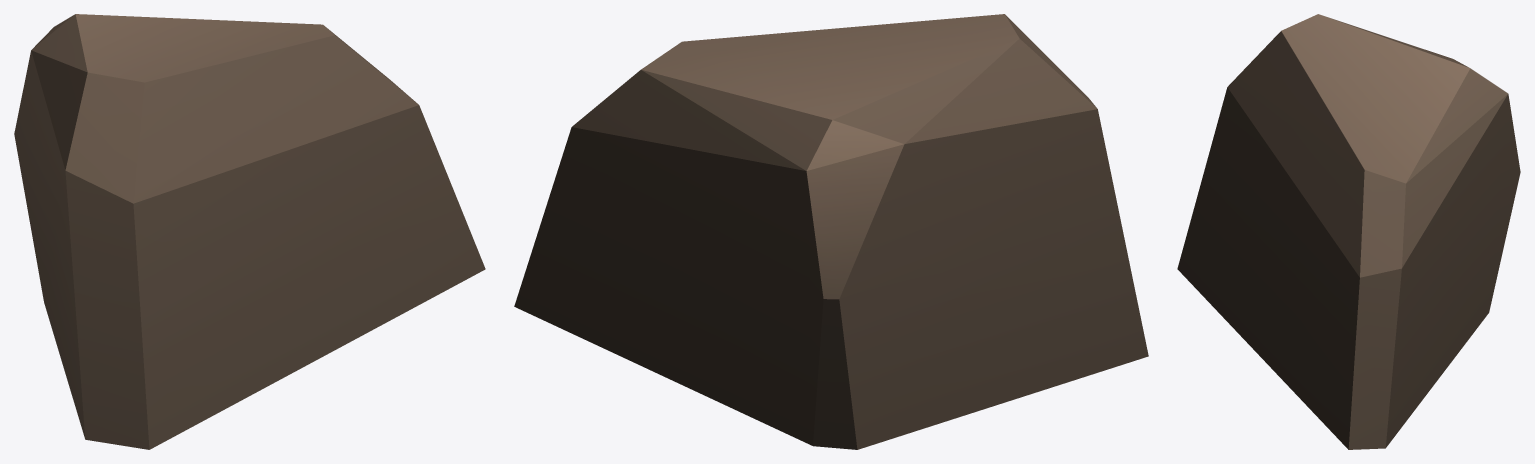
File: Rock_Small_1B.fbx
The picture shows the model from 3 angles, left to right: view 1: azimuth 30°, elevation 25°; view 2: azimuth 150°, elevation 25°; view 3: azimuth 270°, elevation 25°; orthographic projection. The views are drawn at different scales.
Visible parts, largest first — view 1: Rock_Small_1B; view 2: Rock_Small_1B; view 3: Rock_Small_1B.
Part boxes in pixels (left/top/right/bottom): Rock_Small_1B: left=14, top=14, right=485, bottom=449; Rock_Small_1B: left=514, top=14, right=1148, bottom=449; Rock_Small_1B: left=1177, top=14, right=1520, bottom=449.
Size of the model in its own units: 1.29 by 0.8057 by 0.9496.
